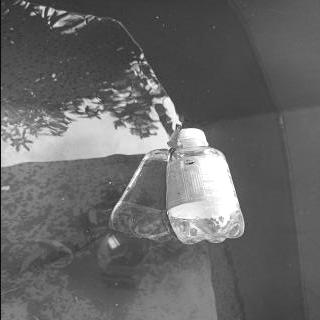bottle: (162, 127, 252, 246)
